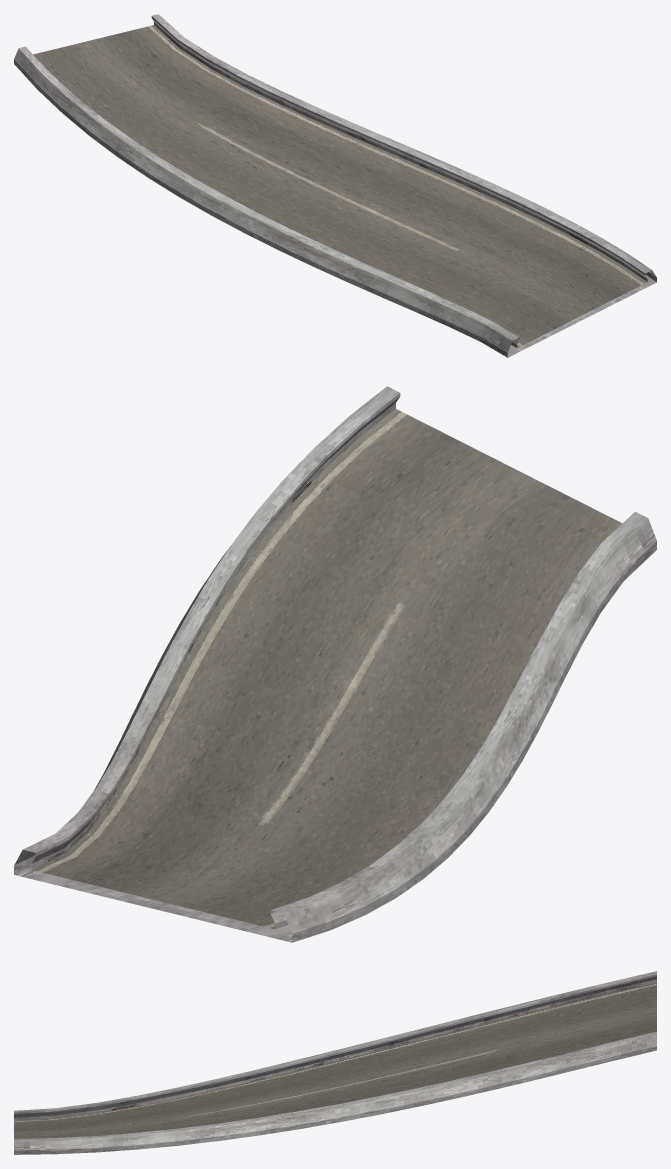
Rendered from road-Chicane-HalfBankedLeft-BiSlopeUp-Up2-Left1-Size4.glb.
3 views of the same model, one above another, from view 1: azimuth 30°, elevation 25°; view 2: azimuth 150°, elevation 25°; view 3: azimuth 270°, elevation 25° (orthographic). The views are drawn at different scales.
Parts seen in each view (by area): view 1: road-Chicane-HalfBankedLeft-BiSlopeUp-Up2-Left1-Size4; view 2: road-Chicane-HalfBankedLeft-BiSlopeUp-Up2-Left1-Size4; view 3: road-Chicane-HalfBankedLeft-BiSlopeUp-Up2-Left1-Size4.
Boxes of the visible parts, left/top/right/bottom form: road-Chicane-HalfBankedLeft-BiSlopeUp-Up2-Left1-Size4: left=14, top=14, right=656, bottom=357; road-Chicane-HalfBankedLeft-BiSlopeUp-Up2-Left1-Size4: left=14, top=386, right=656, bottom=942; road-Chicane-HalfBankedLeft-BiSlopeUp-Up2-Left1-Size4: left=14, top=971, right=656, bottom=1154.
Bounding box in the file's own units: 2 × 0.5937 × 4.
2 materials, 2 textured.
